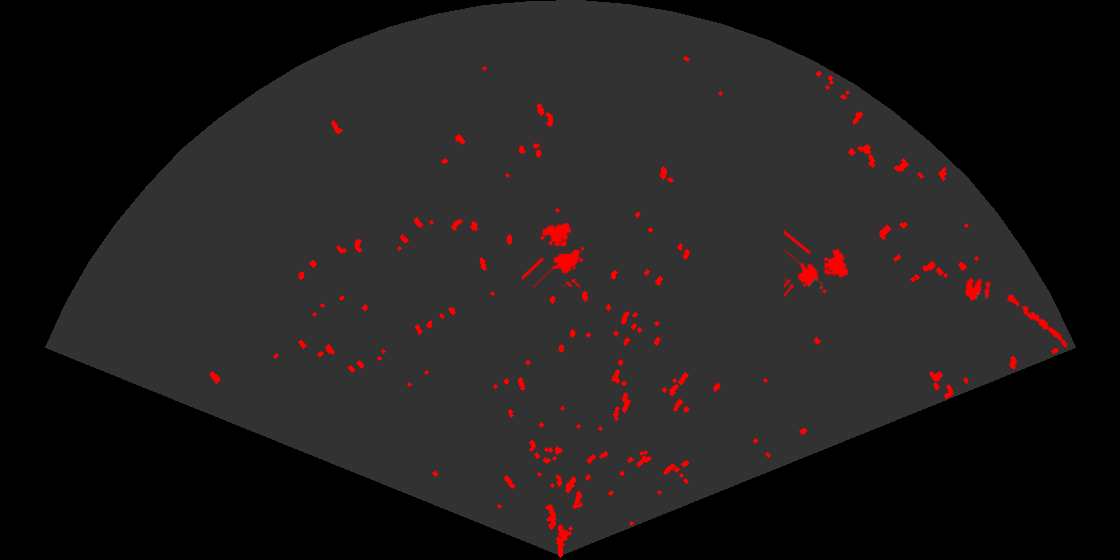ball: (964, 276, 992, 302)
cage: (784, 230, 850, 299), (522, 221, 586, 287)
chain: (1001, 288, 1069, 349)
